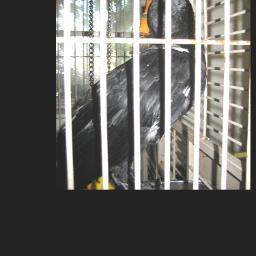Crow: (57, 0, 207, 189)
